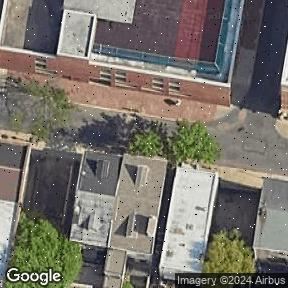vegetation: (7, 213, 91, 288), (126, 119, 220, 168), (16, 82, 74, 144), (203, 229, 255, 274), (5, 279, 44, 288)
